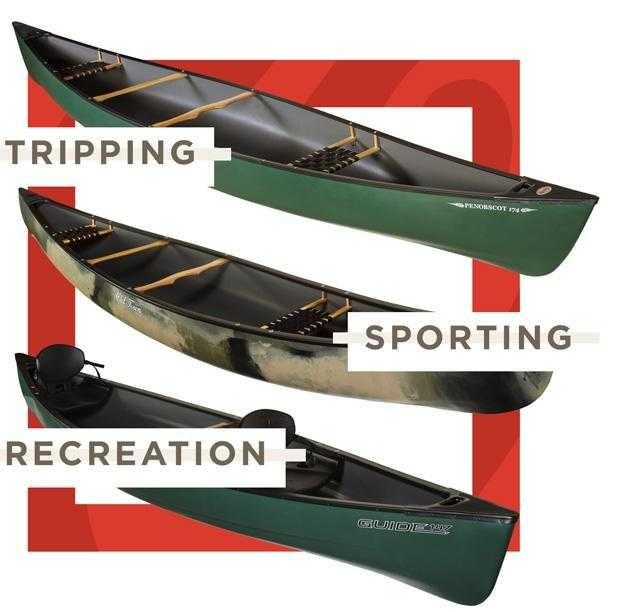kayak: (13, 189, 577, 417)
